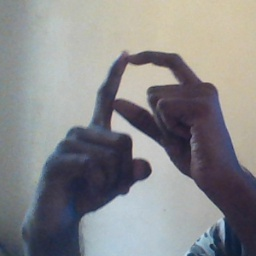D: (79, 42, 207, 161)
